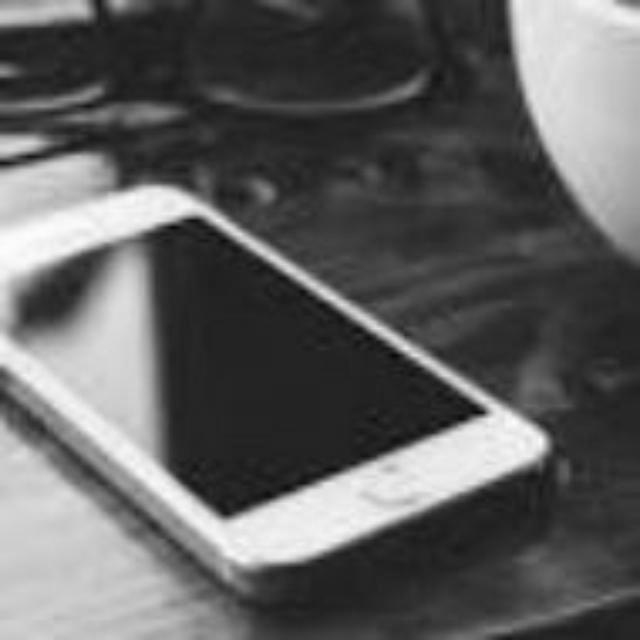fake: (0, 162, 627, 604)
